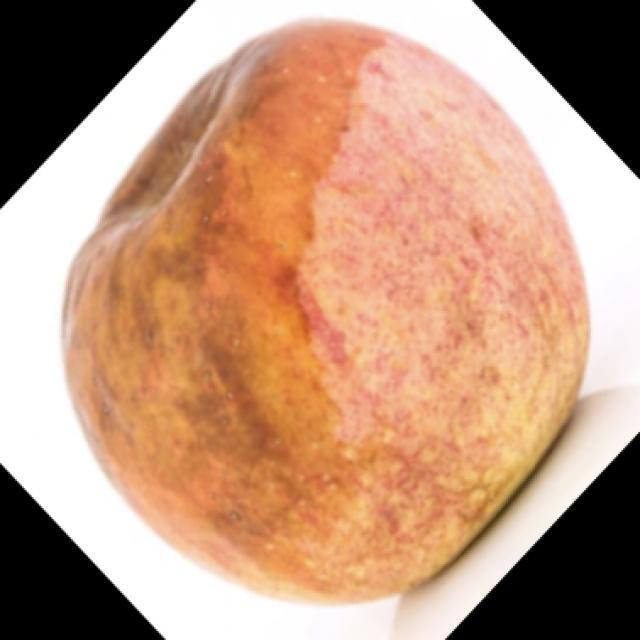Rotten: (72, 55, 575, 590)
